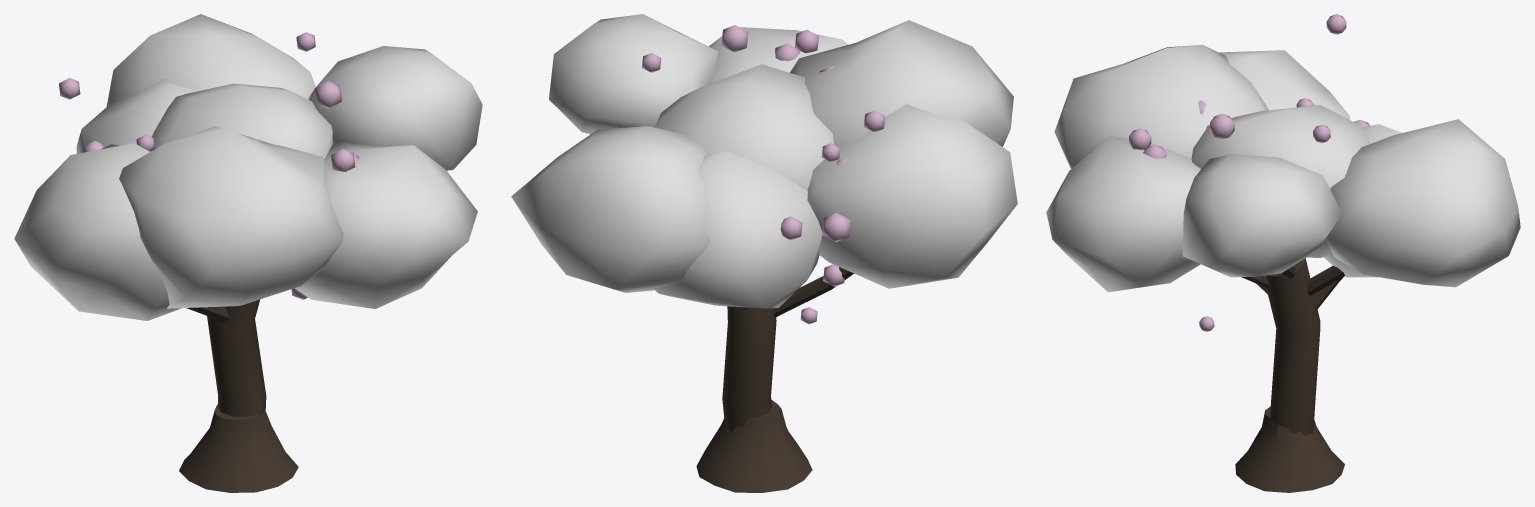
File: ench_tree.fbx
3 views of the same model, side by side, from view 1: azimuth 30°, elevation 25°; view 2: azimuth 150°, elevation 25°; view 3: azimuth 270°, elevation 25° (orthographic). The views are drawn at different scales.
Parts seen in each view (by area): view 1: leaf_1, bark_1, blossom_1; view 2: leaf_1, bark_1, blossom_1; view 3: leaf_1, bark_1, blossom_1.
Part boxes in pixels (x1,y1,x2,y2): leaf_1: [14, 14, 482, 320]; bark_1: [179, 299, 298, 492]; blossom_1: [59, 32, 359, 299]; leaf_1: [511, 14, 1017, 308]; bark_1: [696, 267, 853, 492]; blossom_1: [641, 25, 885, 324]; leaf_1: [1046, 44, 1520, 292]; bark_1: [1235, 258, 1344, 492]; blossom_1: [1129, 14, 1369, 331].
Size of the model in its own units: 2.62 by 2.33 by 2.57.
